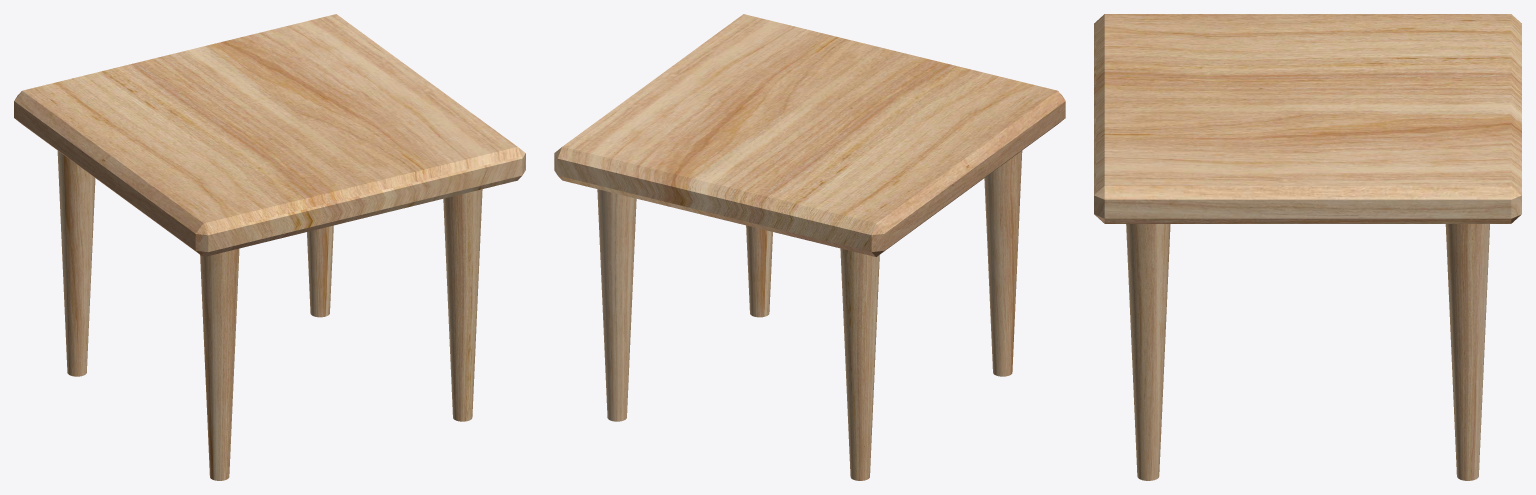
Rendered from TUVOK.fbx.
The picture shows the model from 3 angles, left to right: view 1: azimuth 30°, elevation 25°; view 2: azimuth 150°, elevation 25°; view 3: azimuth 270°, elevation 25°; orthographic projection. The views are drawn at different scales.
Visible parts, largest first — view 1: pCube1, pasted__pasted__pCylinder3, pasted__pasted__pCylinder4, pasted__pCylinder2, pasted__pasted__pCylinder2; view 2: pCube1, pasted__pCylinder2, pasted__pasted__pCylinder2, pasted__pasted__pCylinder3, pasted__pasted__pCylinder4; view 3: pCube1, pasted__pasted__pCylinder2, pasted__pasted__pCylinder4.
Boxes of the visible parts, x1=… form: pCube1: x1=14, y1=14, x2=525, y2=257; pasted__pasted__pCylinder3: x1=200, y1=248, x2=239, y2=480; pasted__pasted__pCylinder4: x1=443, y1=189, x2=482, y2=421; pasted__pCylinder2: x1=57, y1=151, x2=95, y2=376; pasted__pasted__pCylinder2: x1=307, y1=225, x2=333, y2=317; pCube1: x1=554, y1=14, x2=1065, y2=256; pasted__pCylinder2: x1=840, y1=248, x2=879, y2=480; pasted__pasted__pCylinder2: x1=597, y1=189, x2=636, y2=421; pasted__pasted__pCylinder3: x1=984, y1=151, x2=1022, y2=376; pasted__pasted__pCylinder4: x1=746, y1=225, x2=772, y2=317; pCube1: x1=1094, y1=14, x2=1521, y2=223; pasted__pasted__pCylinder2: x1=1445, y1=224, x2=1489, y2=480; pasted__pasted__pCylinder4: x1=1126, y1=224, x2=1170, y2=480.
Size of the model in its own units: 0.9 by 0.7195 by 0.9.
